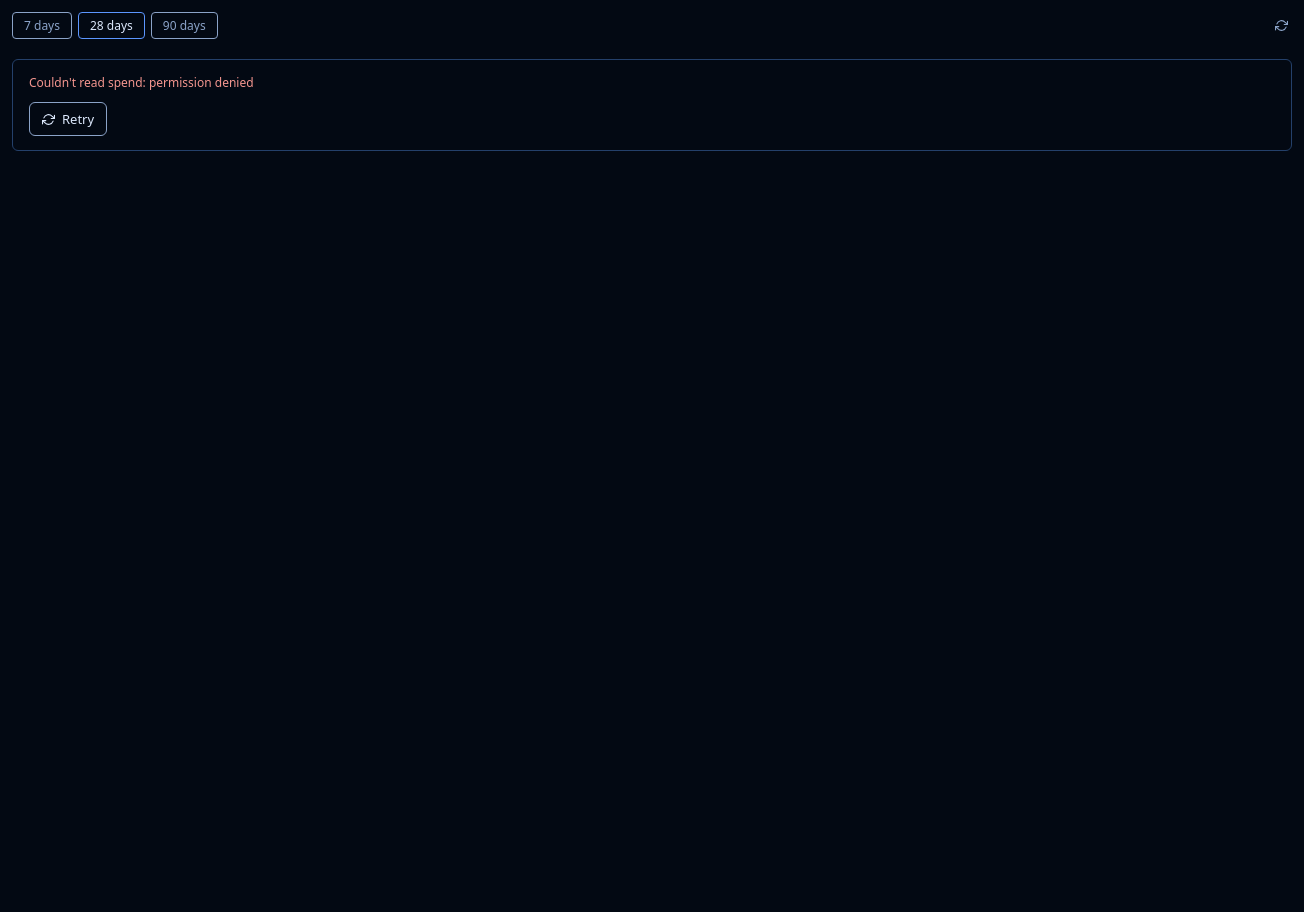
SpendPane › surfaces a scan failure with a retry rather than an empty pane
expect the text "Couldn't read spend: permission denied" is shown: met, box [29,74,254,92]
Click the button "Retry": {"x": 68, "y": 119} [29,102,107,136]
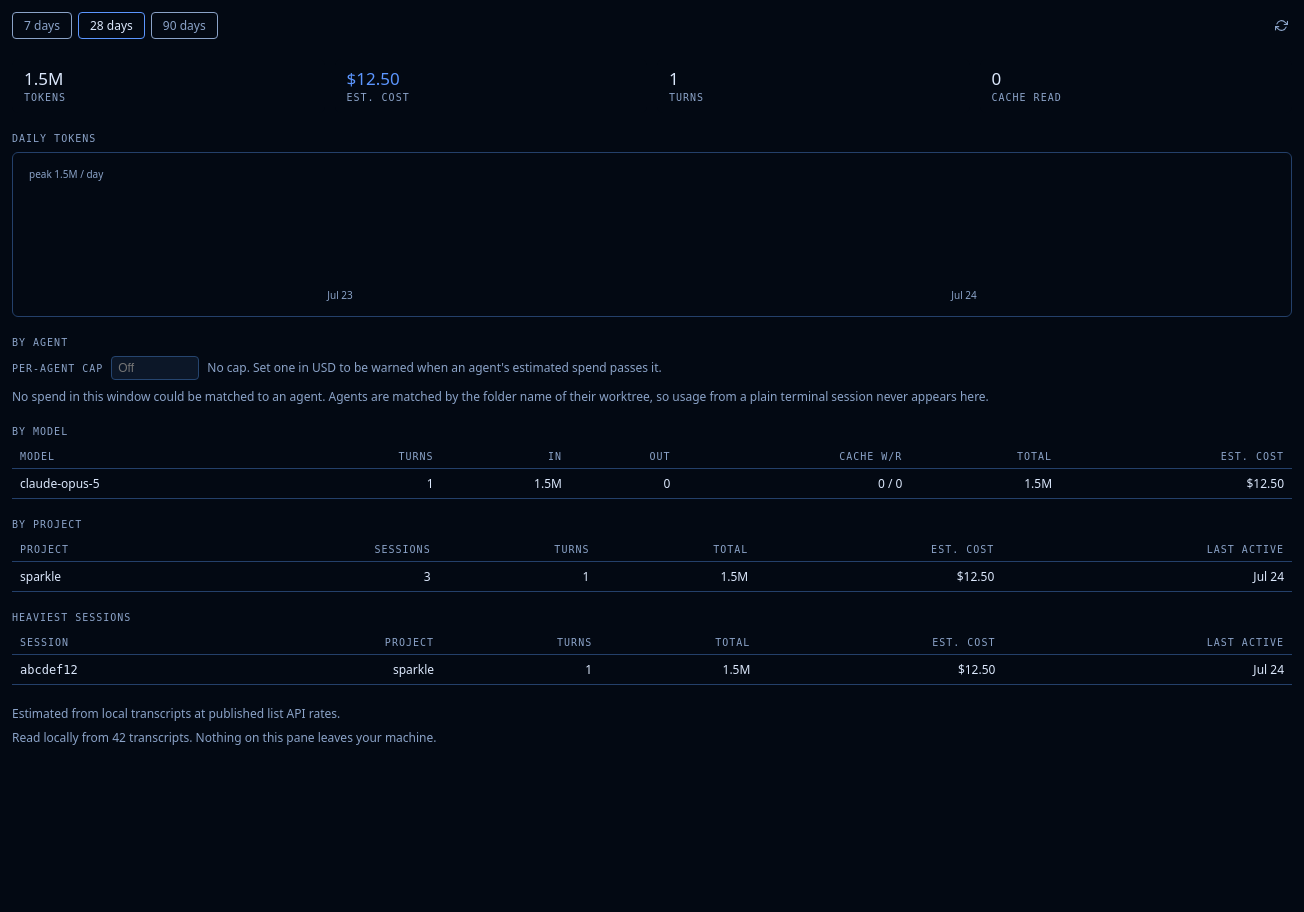
expect the text "claude-opus-5" is shown: met, box [20,475,100,492]
